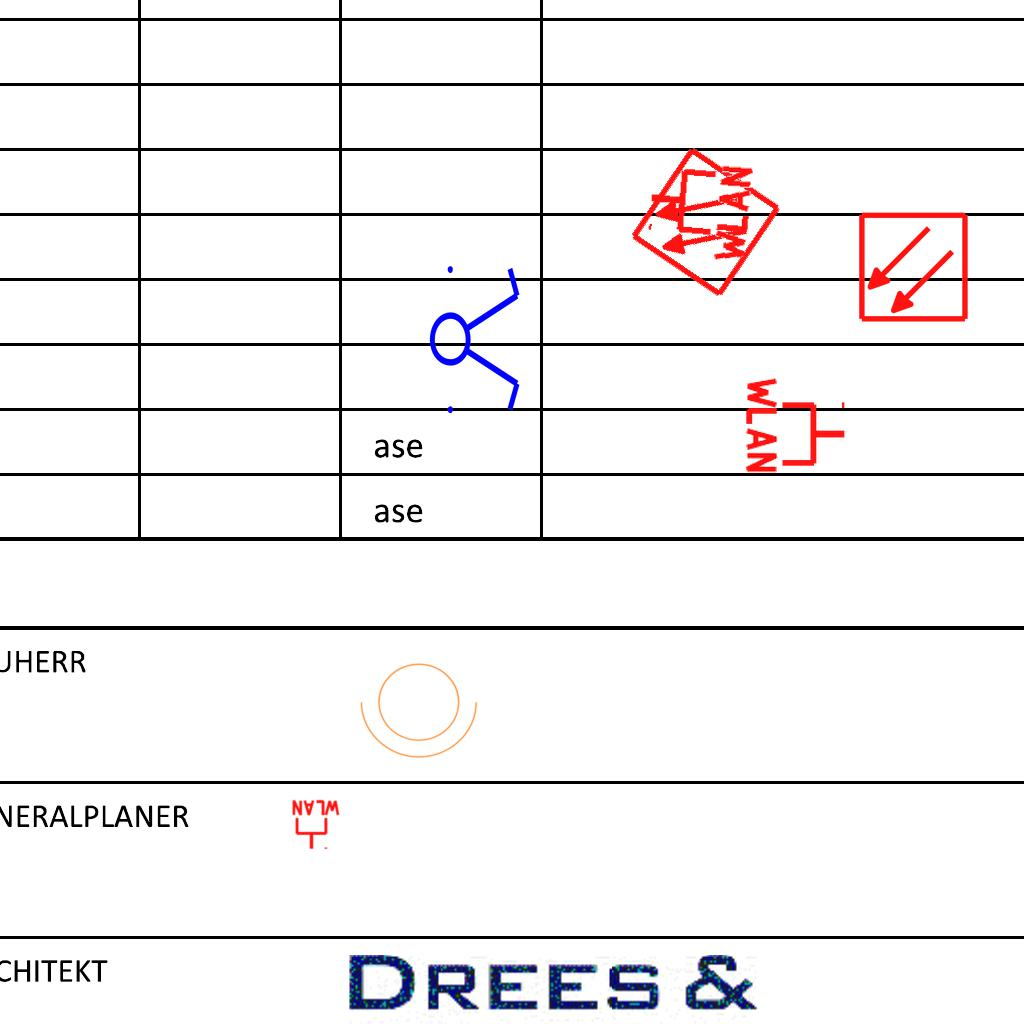RMO_Rauchmelder_optischer: (627, 144, 784, 301), (857, 211, 970, 324)
Scheinwerfer_fuer_Alarmbeleuchtung: (356, 651, 488, 763)
Serienschalter: (428, 254, 524, 422)
WLAN: (641, 154, 756, 268), (744, 373, 849, 477), (290, 799, 342, 851)
